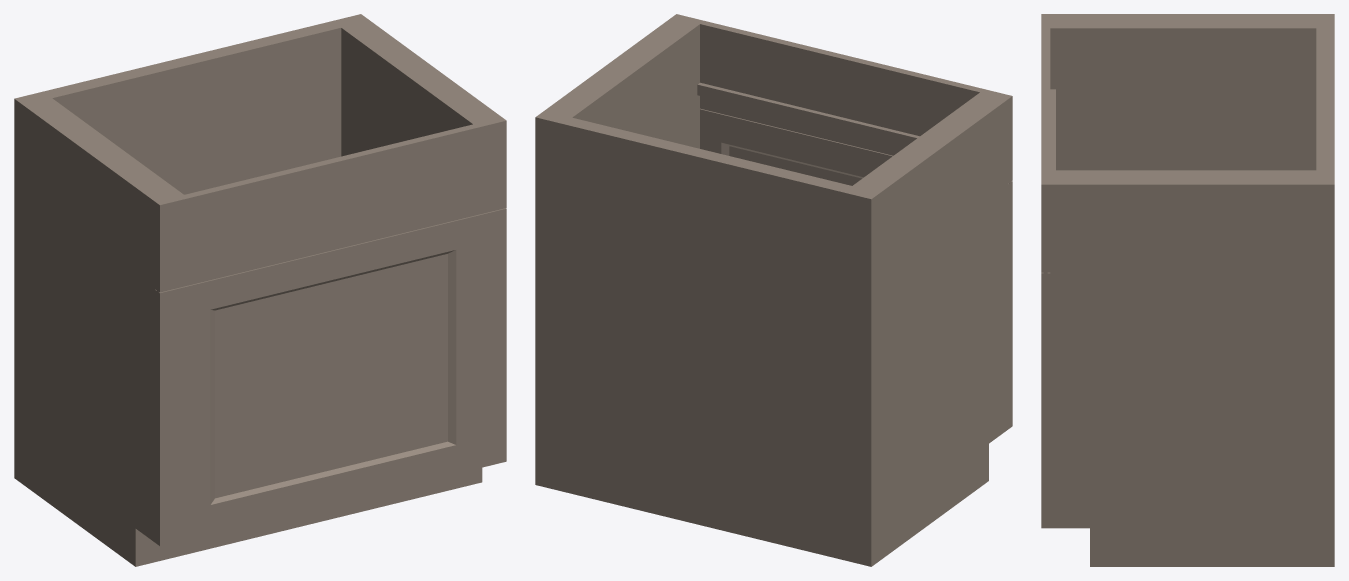
File: Base-Cabinet-Wastebasket-24-Deep_std_001_W33in_2D.glb
3 renders of one model, left to right at view 1: azimuth 30°, elevation 25°; view 2: azimuth 150°, elevation 25°; view 3: azimuth 270°, elevation 25°, orthographic. The views are drawn at different scales.
Visible parts, largest first — view 1: Base-Cabinet-Wastebasket-24-Deep.std.001_W33in_2D; view 2: Base-Cabinet-Wastebasket-24-Deep.std.001_W33in_2D; view 3: Base-Cabinet-Wastebasket-24-Deep.std.001_W33in_2D.
Boxes of the visible parts, left/top/right/bottom form: Base-Cabinet-Wastebasket-24-Deep.std.001_W33in_2D: left=14, top=14, right=506, bottom=566; Base-Cabinet-Wastebasket-24-Deep.std.001_W33in_2D: left=535, top=14, right=1012, bottom=566; Base-Cabinet-Wastebasket-24-Deep.std.001_W33in_2D: left=1041, top=14, right=1334, bottom=566.
Bounding box in the file's own units: 0.8382 × 0.8763 × 0.6096.
